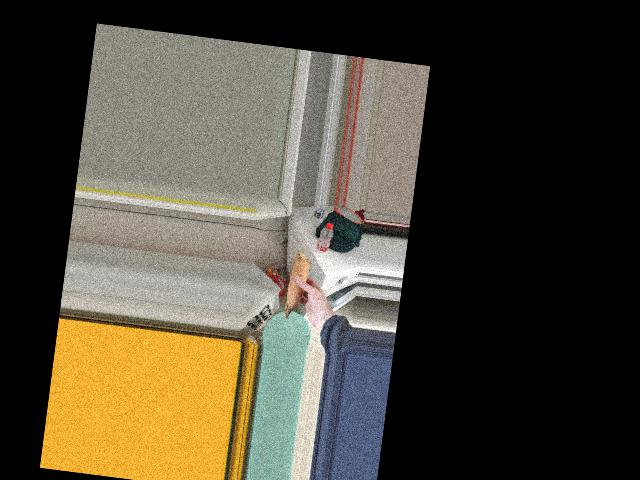sweet_potato: (286, 248, 313, 316)
